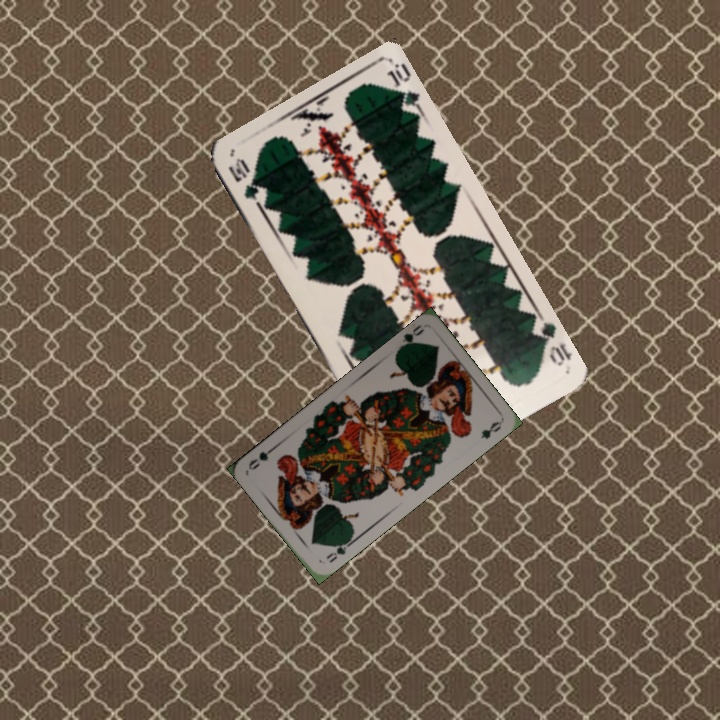G10: (527, 313, 574, 369), (223, 154, 269, 210)
GO: (394, 321, 427, 354), (322, 535, 356, 566)
